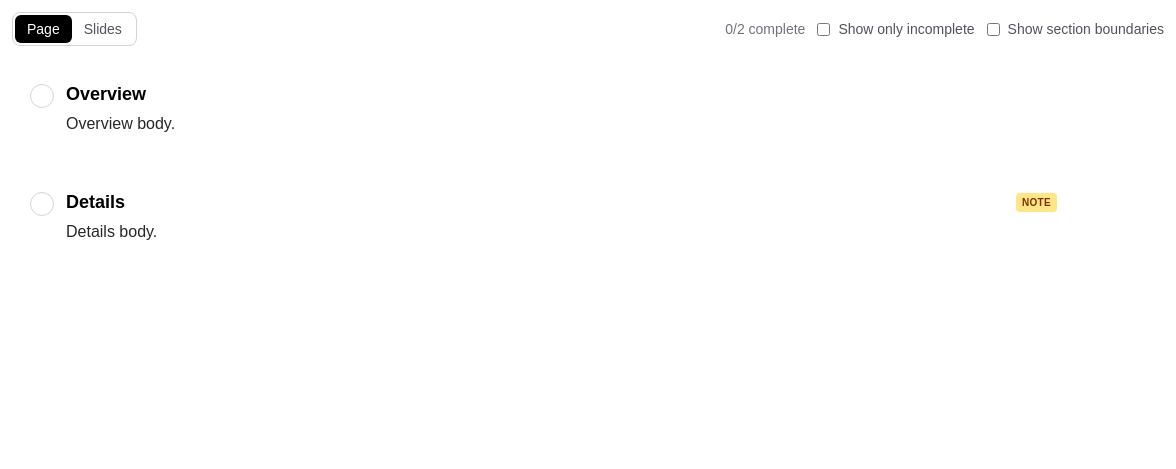
Test case: ContentBlocks › completion tracking › hides 'Jump to next incomplete slide' once the lesson is fully complete
The width and height of the screenshot is (1176, 469).
Click the button "Slides" at (103, 29), box [72,15,134,43]
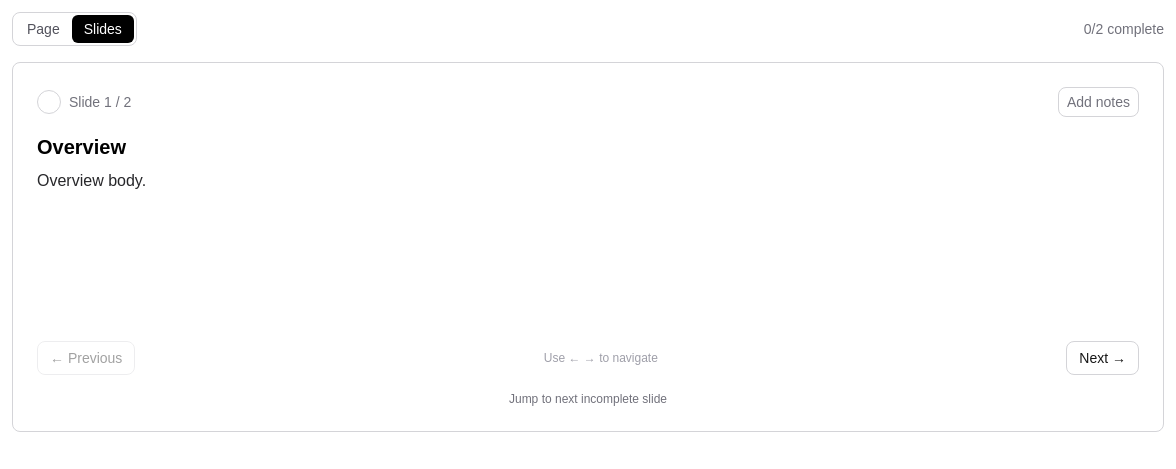
Click the button named "Mark as done" at (49, 102), box [37,90,61,114]
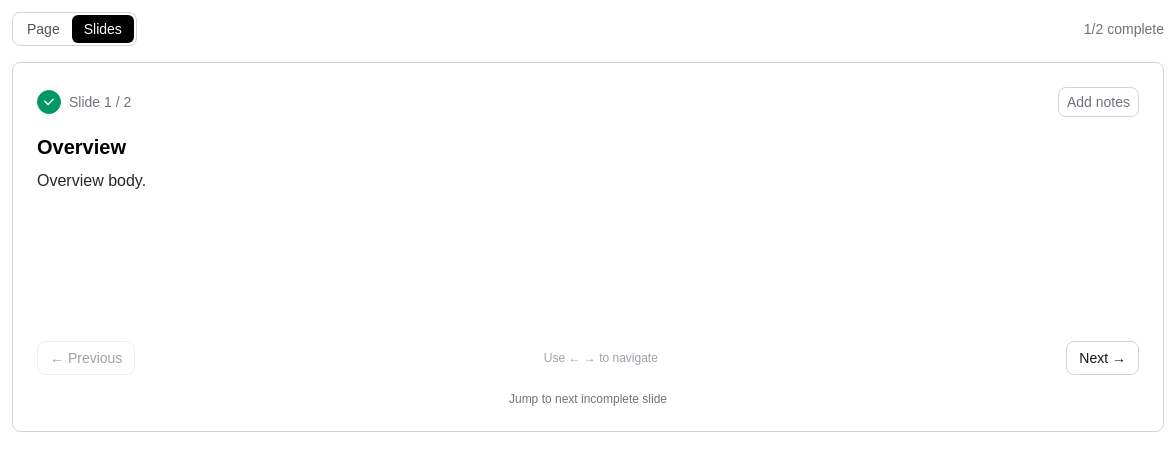
Click the button "Jump to next incomplete slide" at (588, 399), box [509,391,667,407]
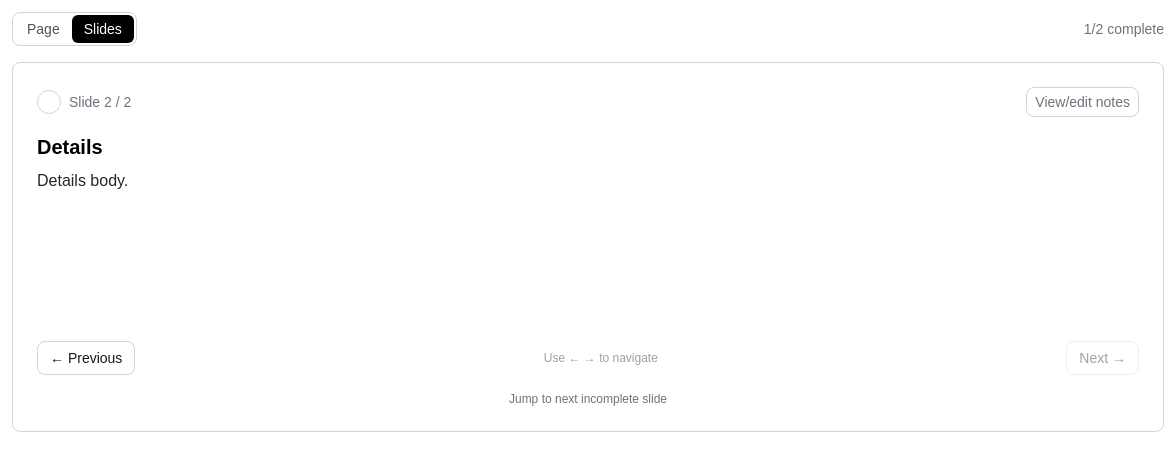
Click the button named "Mark as done" at (49, 102), box [37,90,61,114]
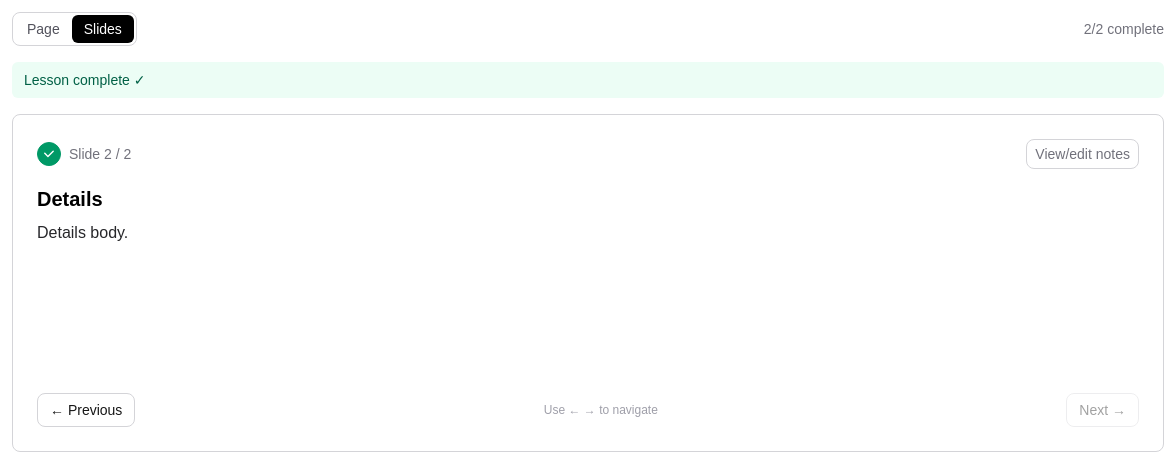
Expected: the button "Jump to next incomplete slide" is gone
